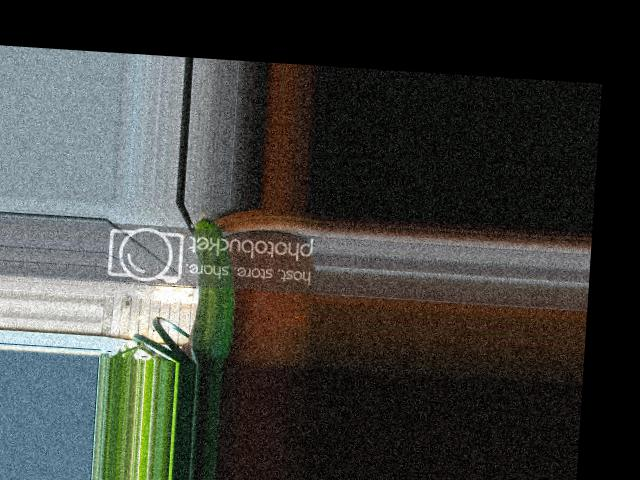cucumber: (185, 211, 240, 364)
